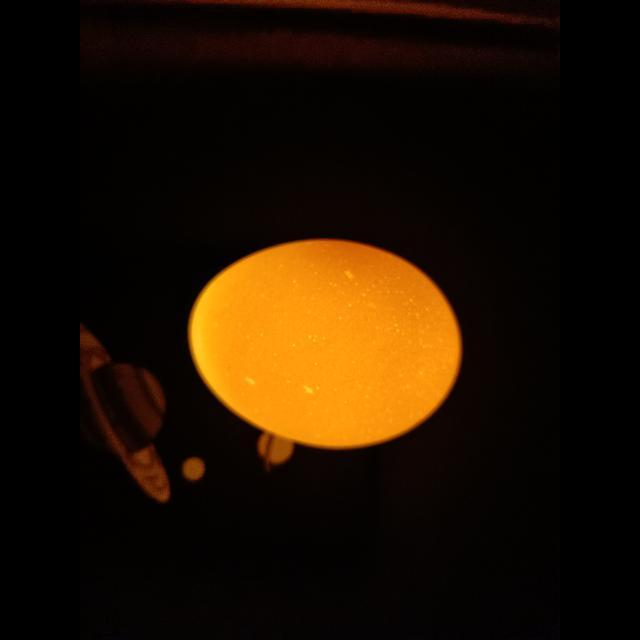AA - Premium: (189, 239, 461, 449)
